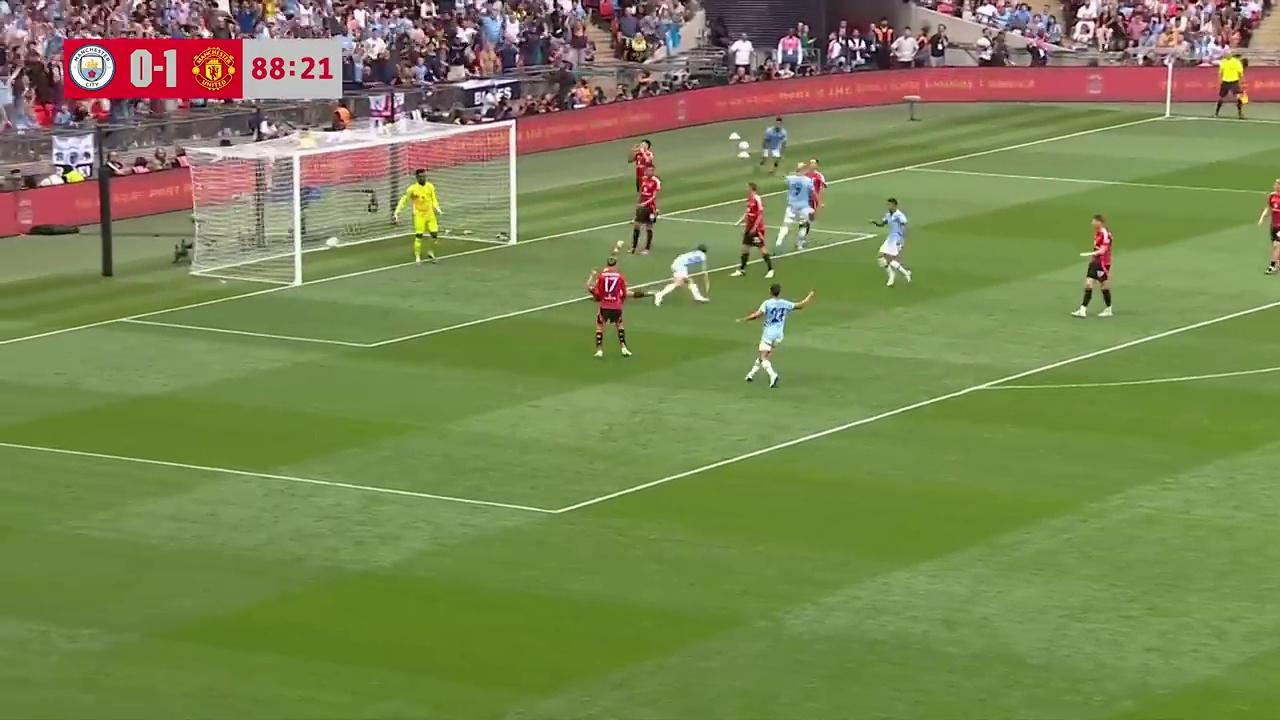ball: (326, 231, 340, 250)
player: (740, 281, 797, 387), (586, 253, 636, 358), (1072, 213, 1113, 319), (730, 183, 776, 275), (653, 242, 711, 306), (406, 173, 442, 264), (876, 198, 912, 287), (774, 170, 813, 251), (630, 176, 659, 256), (1257, 178, 1280, 277), (800, 157, 827, 232), (627, 139, 656, 196), (759, 118, 788, 173)
referee: (1216, 50, 1246, 122)
